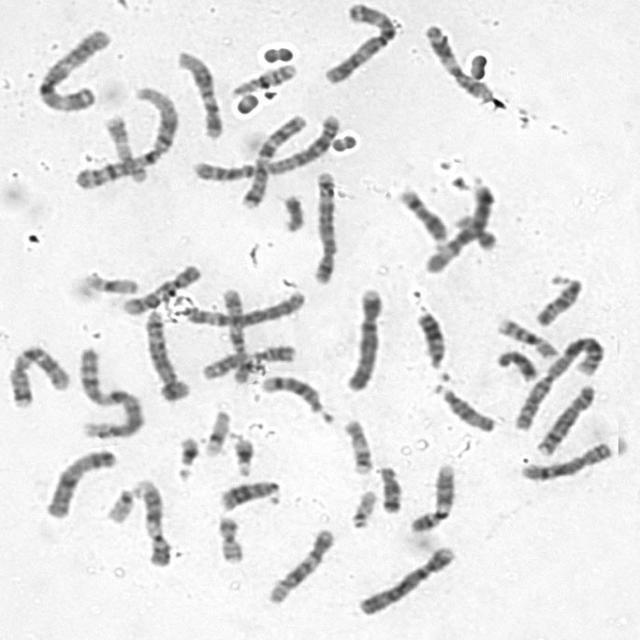A1: (66, 80, 182, 191), (71, 342, 146, 439)
A2: (186, 108, 346, 184), (508, 329, 608, 432)
A3: (30, 20, 113, 114), (317, 0, 400, 85)
B4: (352, 539, 457, 617), (338, 281, 385, 392)
B5: (145, 309, 191, 401), (306, 165, 340, 285)
C10: (116, 258, 203, 316), (216, 281, 258, 384)
C11: (418, 17, 494, 101), (196, 338, 300, 382)
C12: (261, 522, 337, 605), (170, 43, 226, 140)
C6: (418, 174, 496, 275), (178, 284, 309, 328)
C7: (234, 107, 309, 209), (3, 338, 73, 410)
C8: (530, 377, 598, 457), (514, 435, 616, 483)
C9: (128, 473, 173, 568), (404, 456, 458, 534)
D13: (214, 473, 284, 512), (410, 303, 449, 370)
D14: (254, 367, 335, 424), (391, 181, 451, 246)
D15: (426, 376, 498, 434), (528, 268, 584, 327)
E16: (490, 310, 560, 360), (224, 57, 298, 99)
E17: (98, 109, 150, 185), (337, 412, 375, 476)
E18: (489, 342, 540, 383), (372, 459, 404, 514)
F19: (79, 265, 141, 296), (198, 404, 233, 458)
F20: (448, 208, 501, 251), (211, 508, 246, 565)
G21: (169, 429, 202, 481), (226, 429, 256, 477)
G22: (99, 481, 138, 524), (344, 483, 379, 530)
X: (38, 442, 118, 520)
Y: (275, 187, 307, 232)
